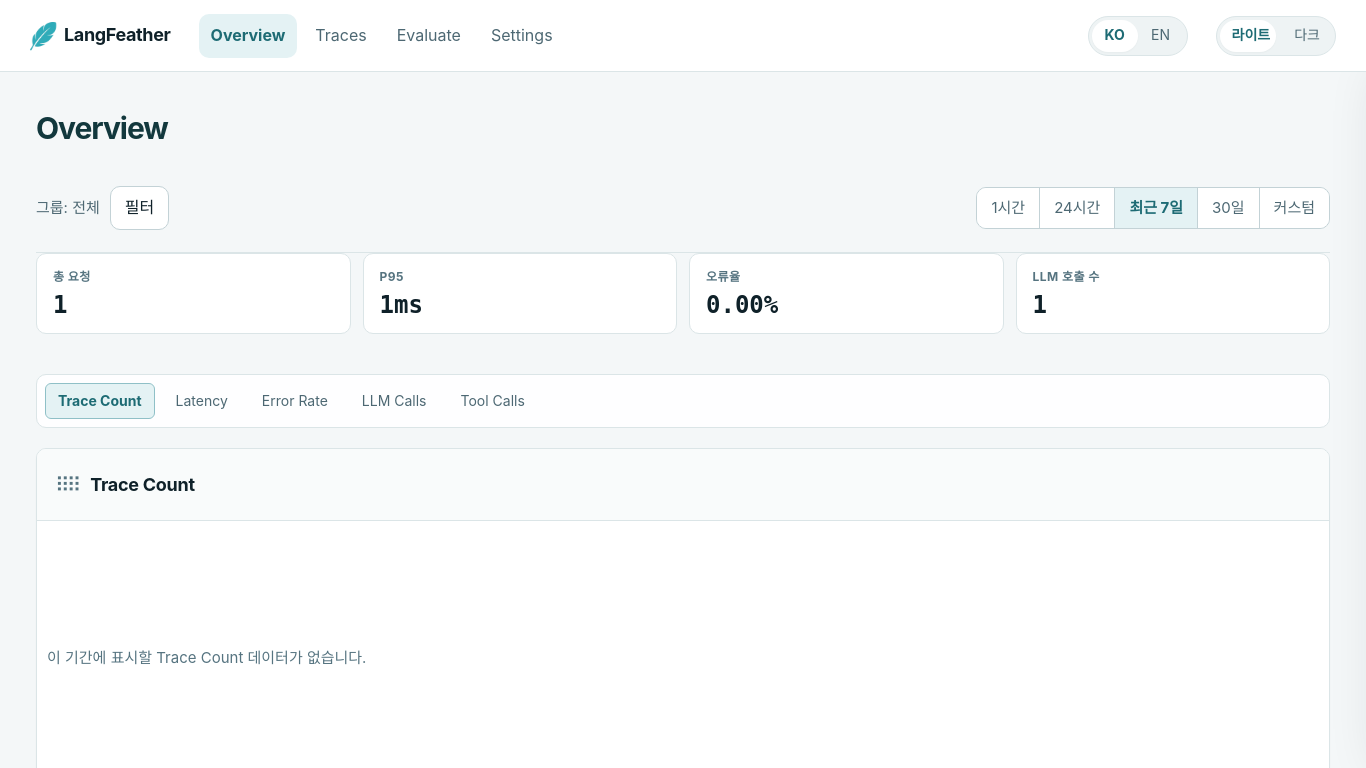
V2 presentation › Evaluate는 세그먼트 넷이고 dataset context는 그 위에 남는다
Click the button "Evaluate" at (429, 36), box [385,14,473,58]
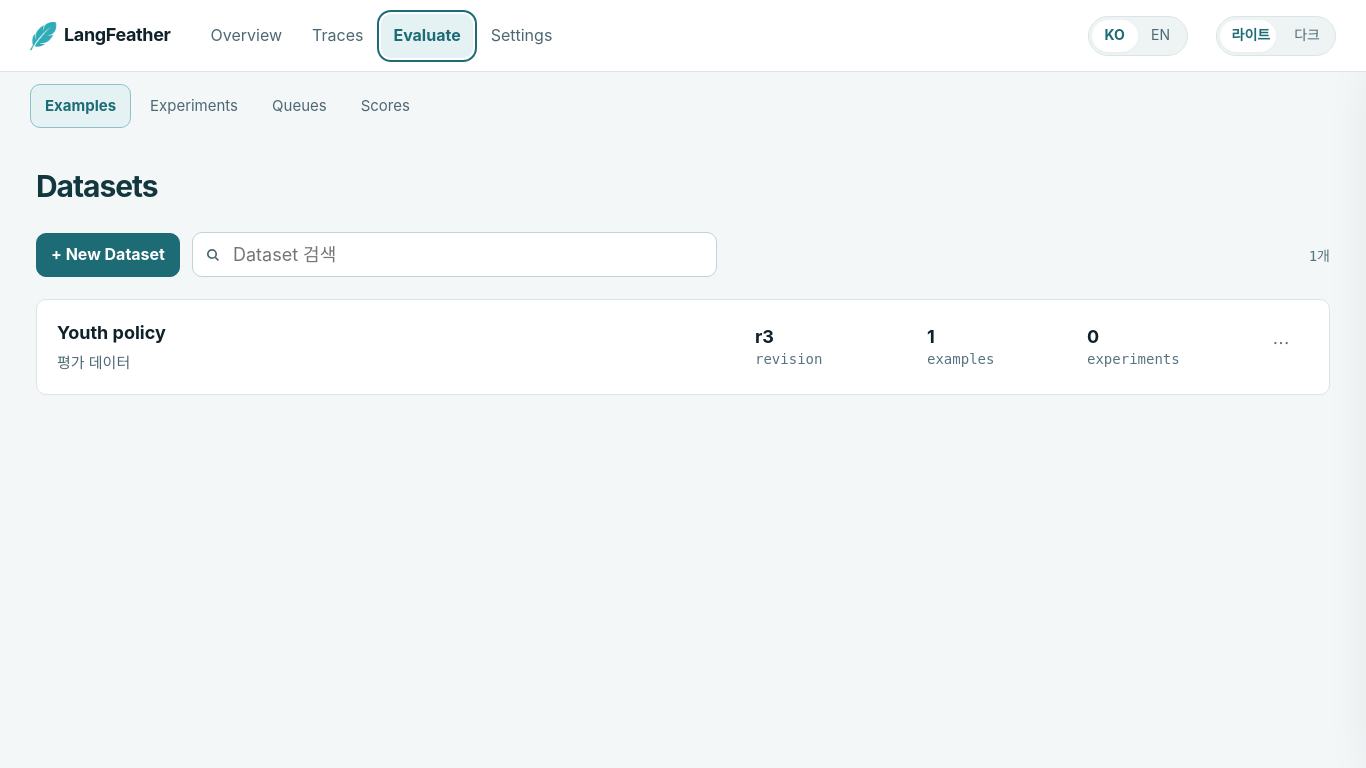
Click the button "Youth policy 평가 데이터 r3 revision 1 examples 0 experiments" at (111, 332), box [36,299,1330,395]
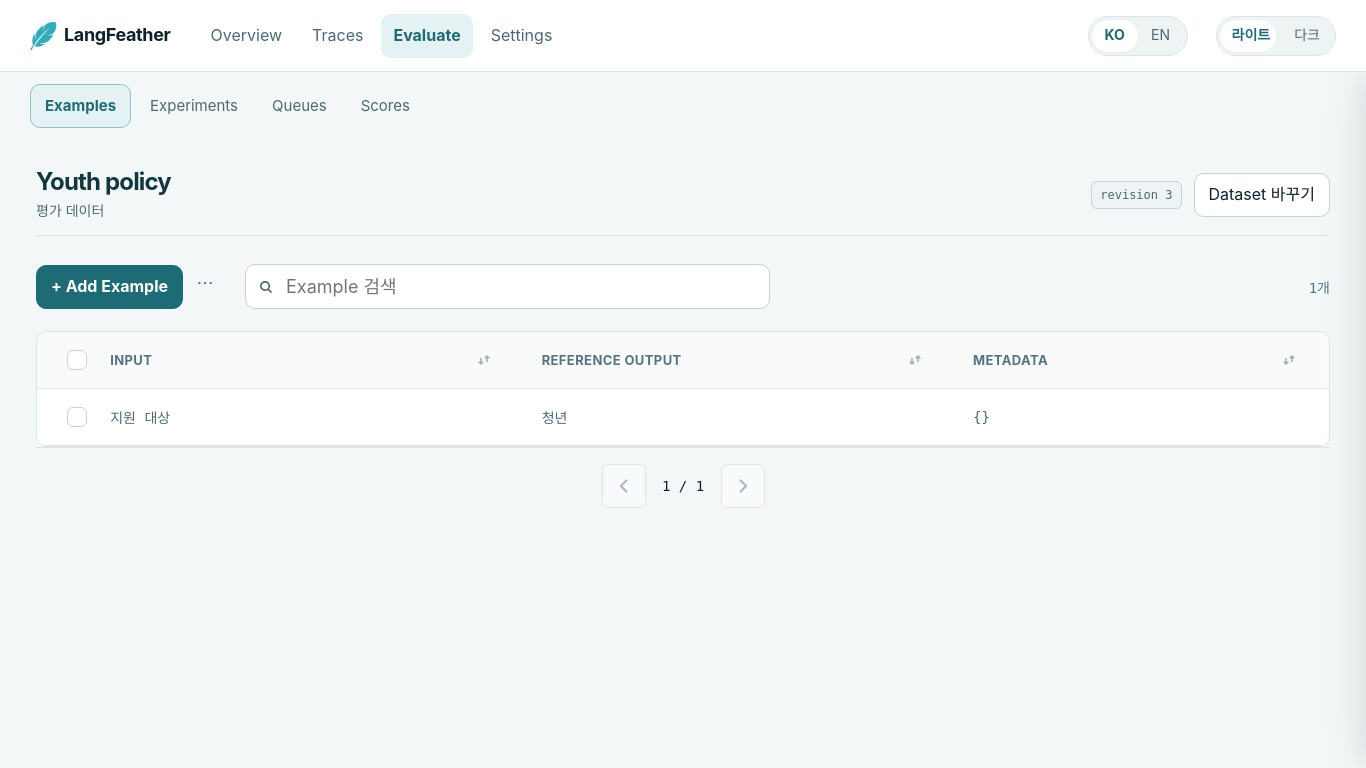
Check: the heading "Youth policy" is shown, box [36,167,171,196]
Click the button "Experiments" at (194, 106), box [135,84,253,128]
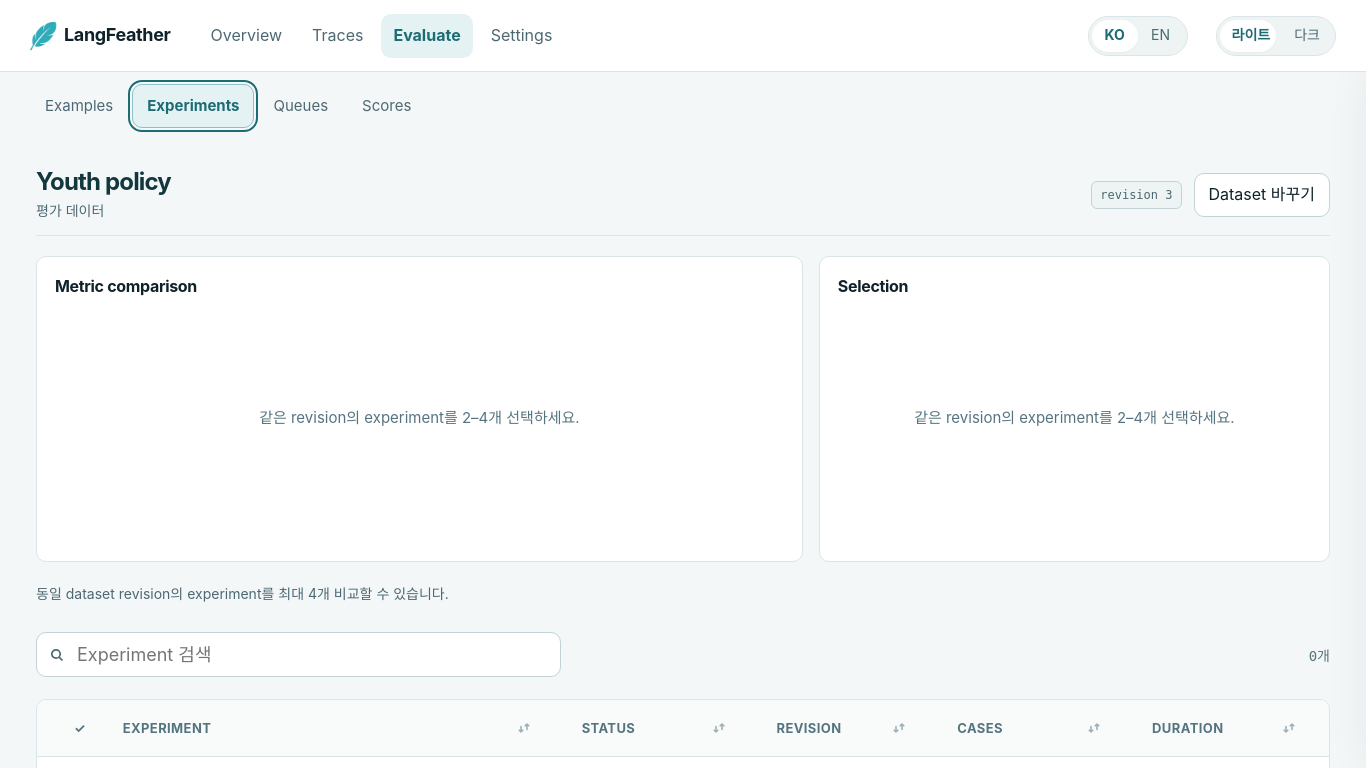
Check: the heading "Youth policy" is shown, box [36,167,171,196]
// context bar에서 다른 dataset으로 돌아갈 수 있다.
Click the button "Dataset 바꾸기" at (1262, 194), box [1194,172,1330,216]
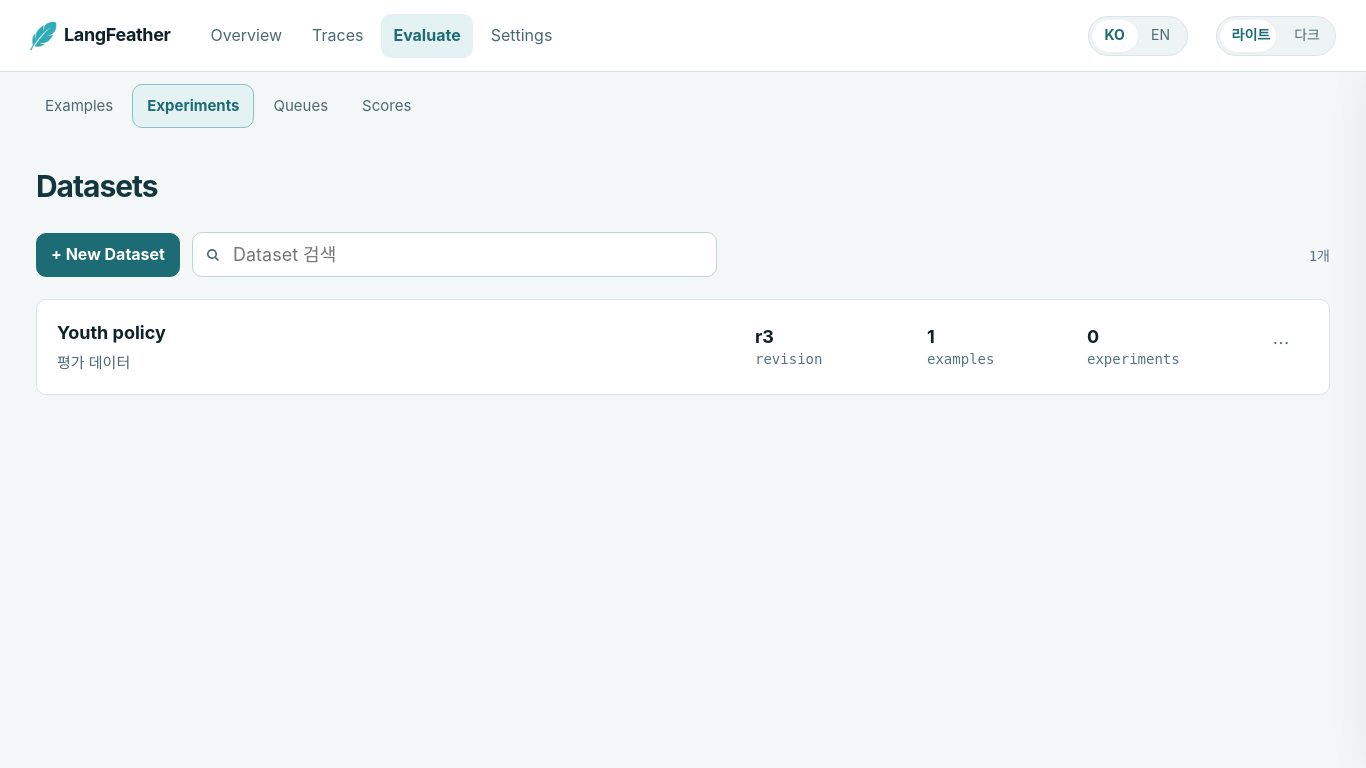
Check: the button "Youth policy 평가 데이터 r3 revision 1 examples 0 experiments" is shown, box [36,299,1330,395]
